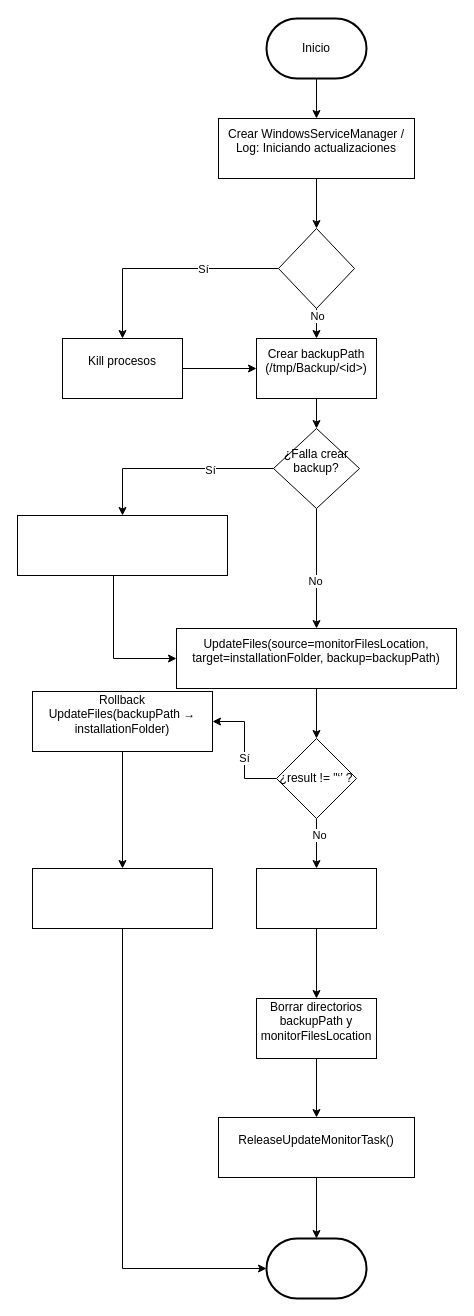
Some shapes in this 474 by 1316 pixel diagram are drawn without their labels. Here are the shapes that lost their labels. From the top down, the centre of each, then its label:
At (x=316, y=268): "¿Hay procesos ‘psample’?".
At (x=122, y=545): "backupPath = TempPath/actualizaciones/Backup/<id>".
At (x=122, y=898): "Limpiar backup (RemoveDirectoryContents)".
At (x=316, y=898): "Limpiar backup y carpeta de updates".
At (x=316, y=1268): "Fin".
